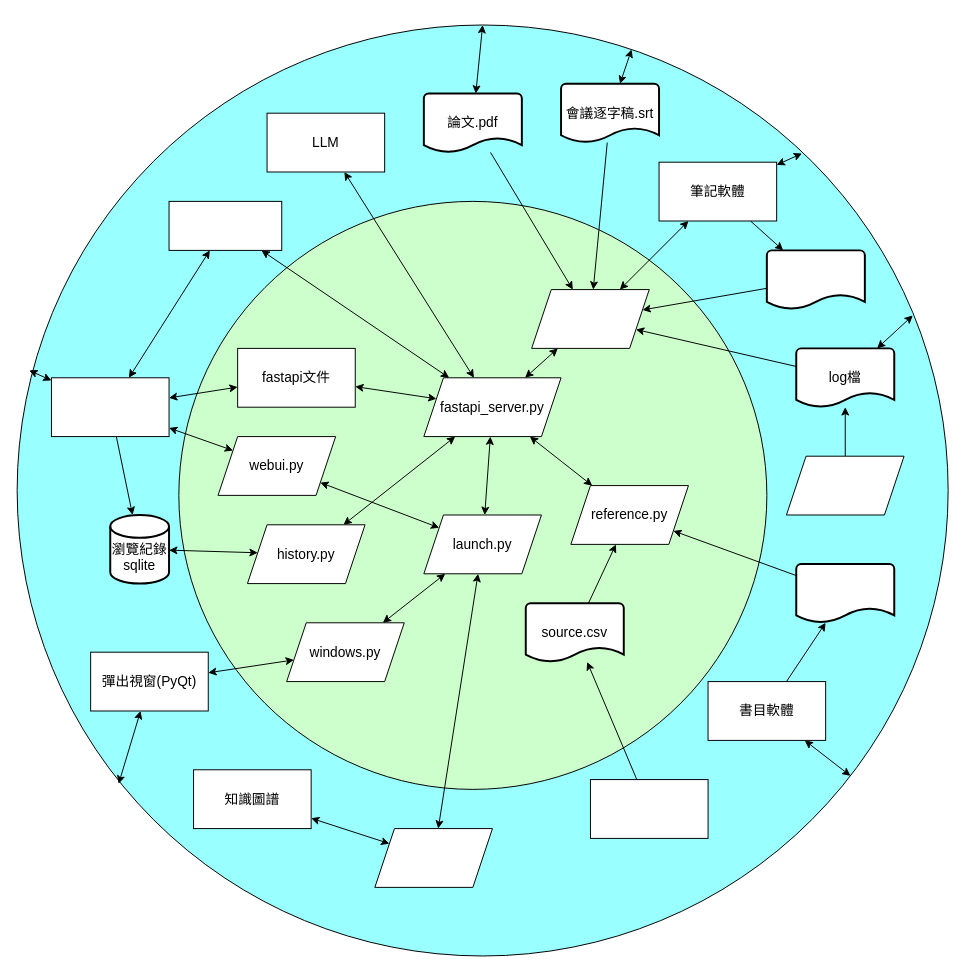
Image size: 965x973. Some labels were removed from this diagram. The shapes that lost their labels are listed below. From the top down, each one's centre as x and y in pixels, then its label:
At [225,225]: "瀏覽器擴充".
At [815,279]: "筆記.txt".
At [590,318]: "parser.py".
At [109,407]: "瀏覽器".
At [844,485]: "record.py".
At [845,593]: "文獻清單.bib".
At [648,808]: "scopus".
At [433,857]: "api_neo4j,py".
